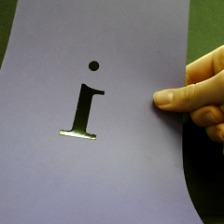violet1: (52, 55, 116, 147)
